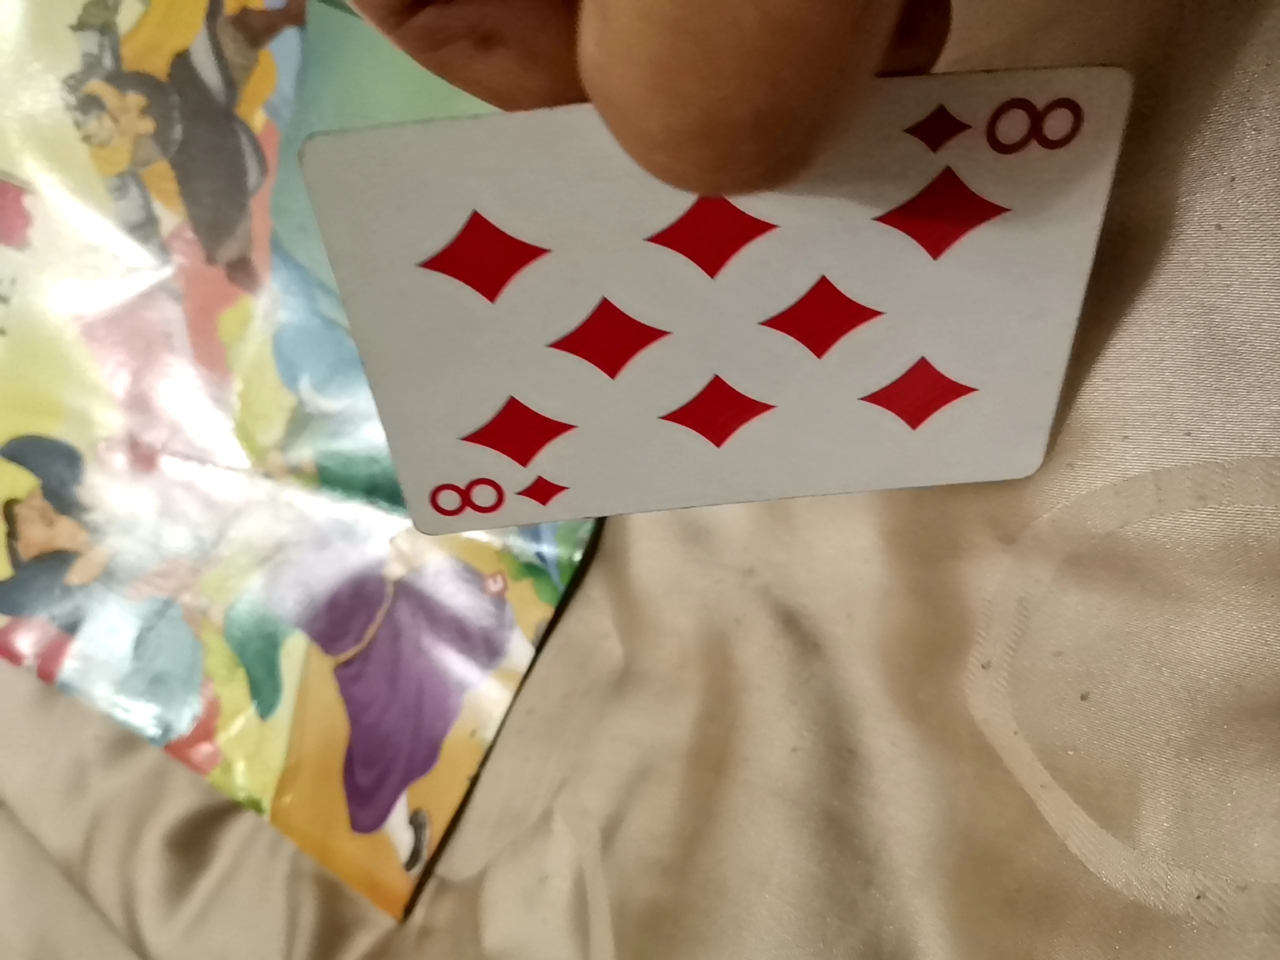fk 8: (280, 81, 1058, 530)
